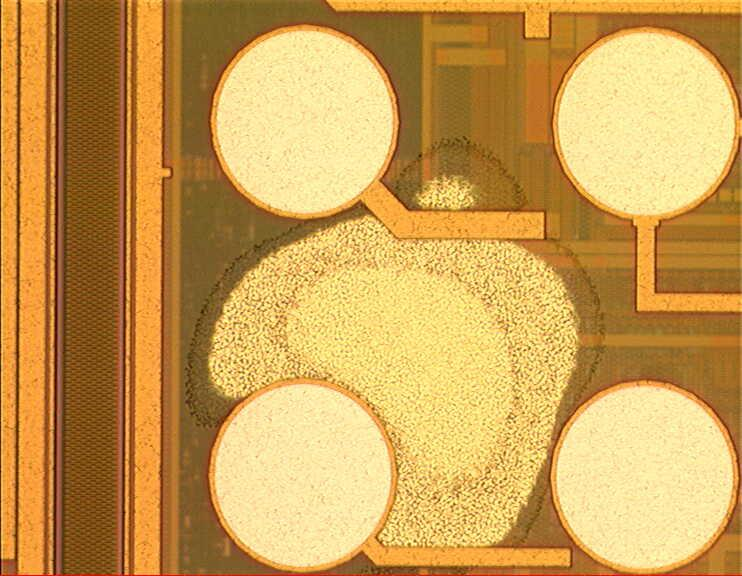BLOCK ETCH: (175, 134, 609, 552)
